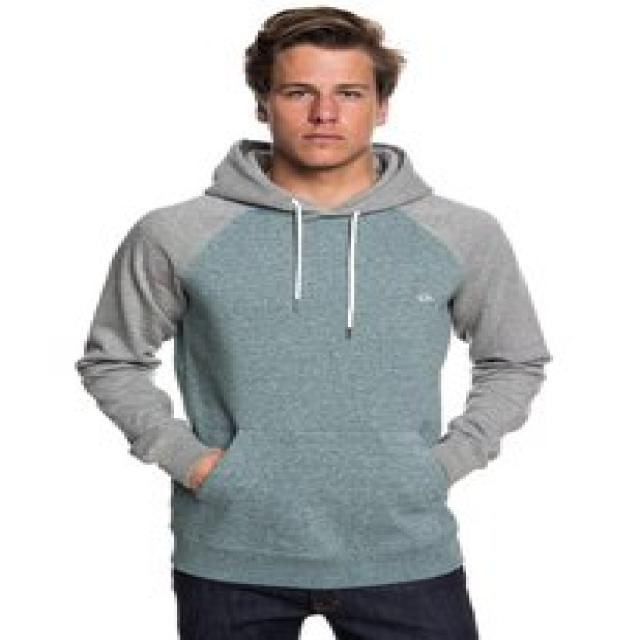human: (68, 4, 559, 640)
